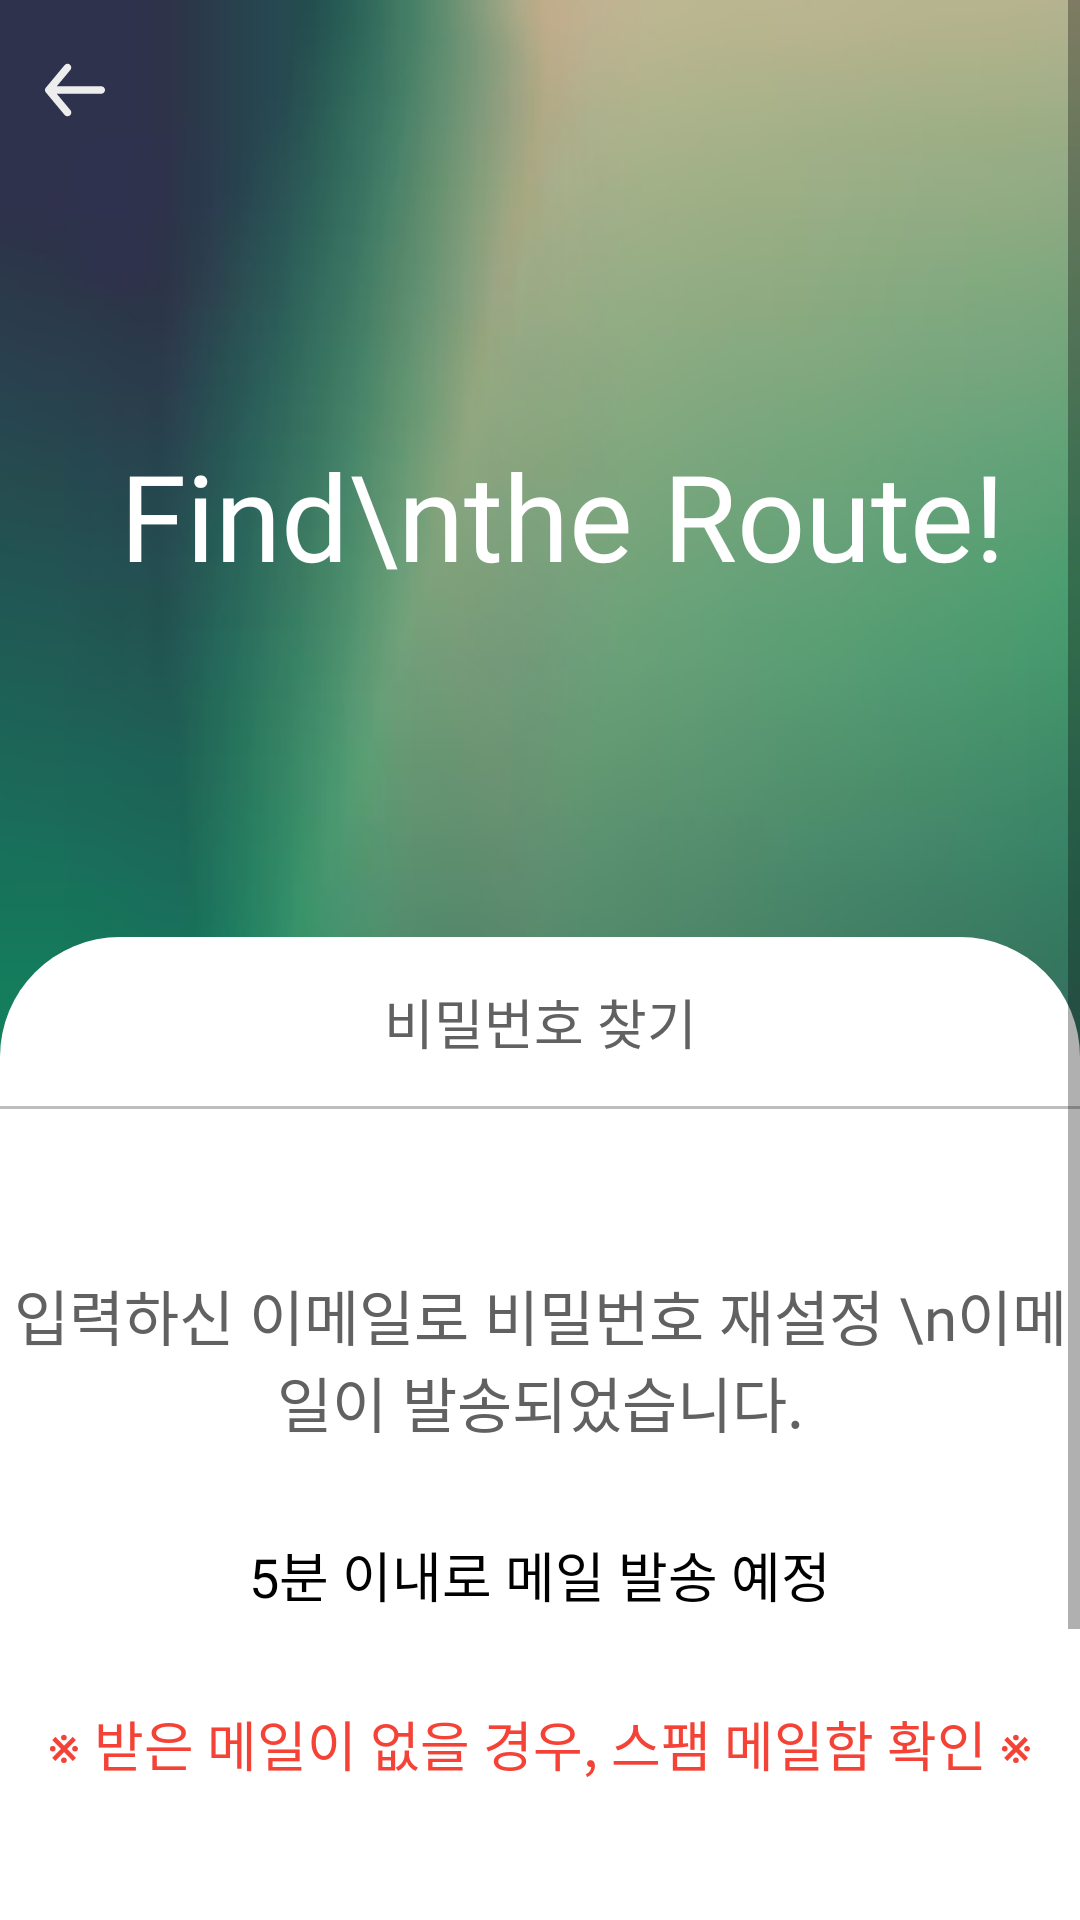

Icons on this 1080x1920 Android screen, each with its box as region(x1, y1, x2, y2):
back arrow: region(45, 63, 105, 117)
